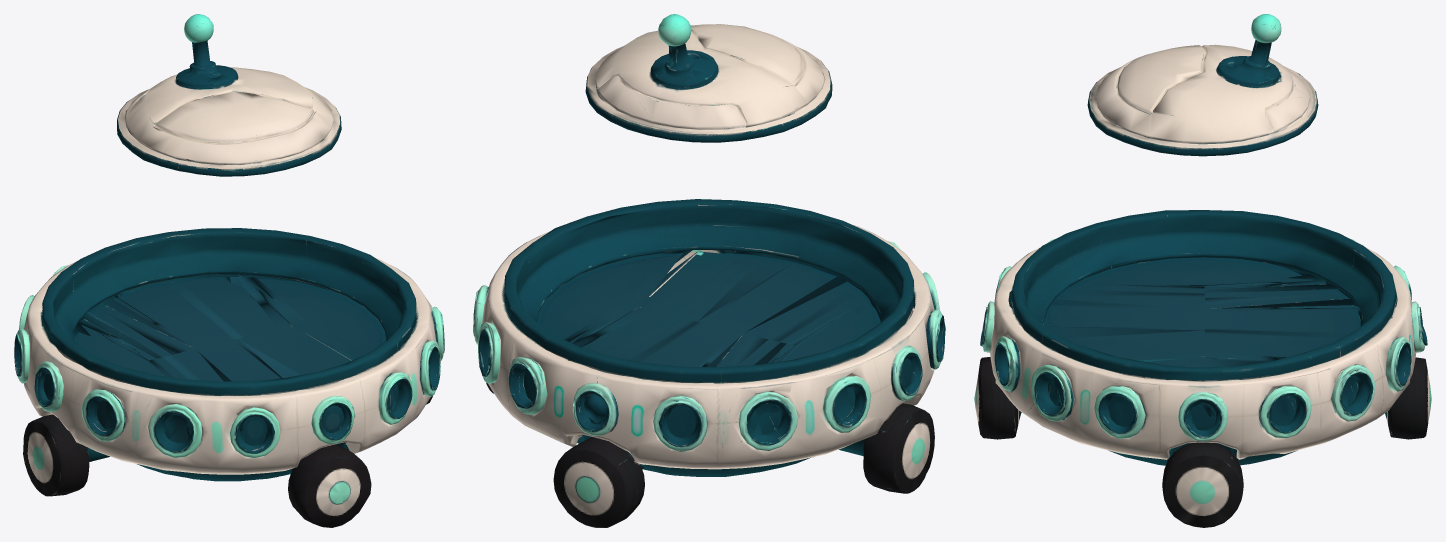
Rendered from byte-vat-raw-v1.glb.
3 views of the same model, side by side, from view 1: azimuth 30°, elevation 25°; view 2: azimuth 150°, elevation 25°; view 3: azimuth 270°, elevation 25° (orthographic). The views are drawn at different scales.
Size of the model in its own units: 0.9312 by 0.9517 by 0.9331.
Materials: 1 (1 with a texture image).
